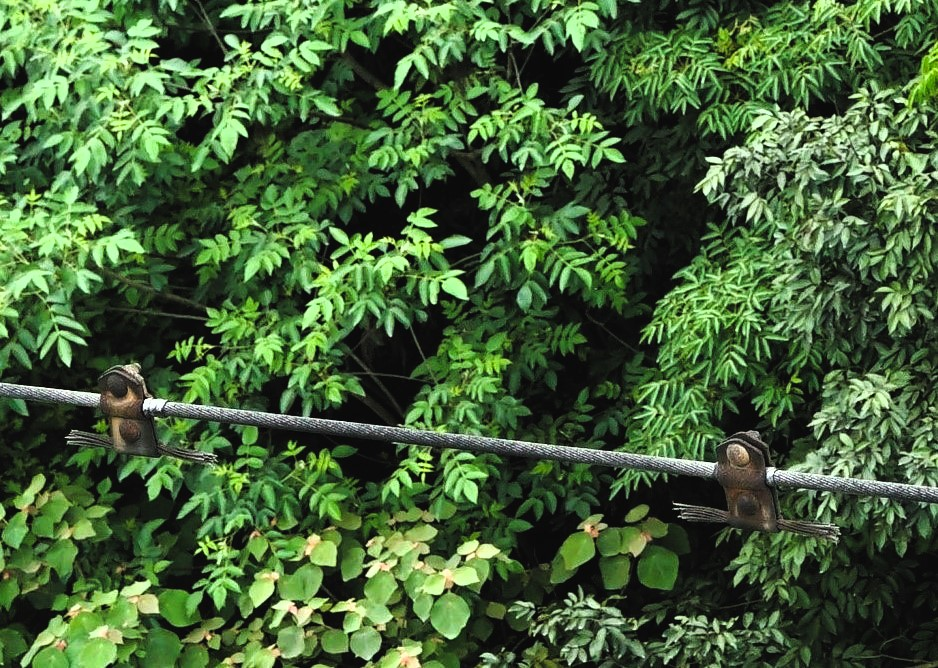Damage of shockproof hammer: (665, 426, 847, 552), (45, 355, 232, 473)
